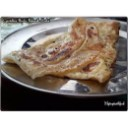parota: (6, 18, 119, 85)
